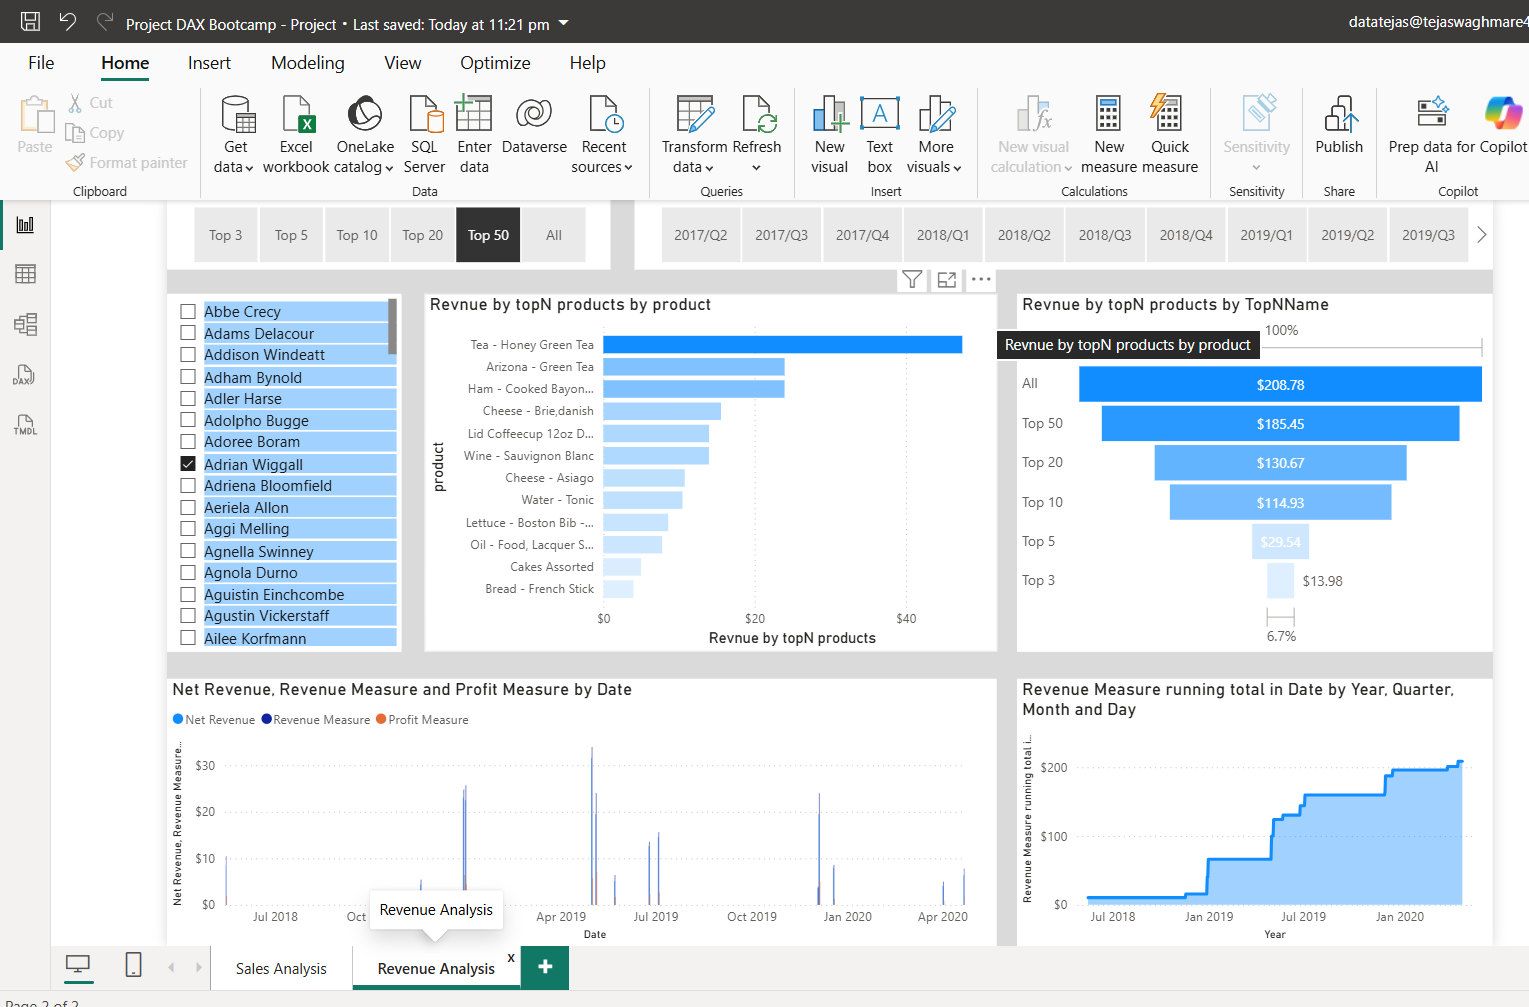

This screenshot's page, from the dashboard's own definition file:
{"tool":"powerbi","page":{"name":"Revenue Analysis","canvas":[1280,720],"ordinal":1},"visuals":[{"type":"slicer","fields":{"Values":["TopNFilter.TopNName"]},"box":[0,0,428.1,67.3],"z":0},{"type":"barChart","fields":{"Category":["products.product"],"Y":["Key Measure Table Project.Revnue by topN products"]},"box":[248.3,90.5,552.8,345.4],"z":1000},{"type":"funnel","fields":{"Category":["TopNFilter.TopNName"],"Y":["Key Measure Table Project.Revnue by topN products"]},"box":[821,90.5,459,345.4],"z":2000},{"type":"slicer","fields":{"Values":["customer.name"]},"box":[0,90.5,226.2,345.4],"z":3000},{"type":"areaChart","fields":{"Category":["DateTable.Date.Variation.Date Hierarchy.Year","DateTable.Date.Variation.Date Hierarchy.Quarter","DateTable.Date.Variation.Date Hierarchy.Month","DateTable.Date.Variation.Date Hierarchy.Day"],"Y":["Key Measure Table Project.Revenue Measure running total in Date"]},"box":[821,462.3,459,258.2],"z":4000},{"type":"slicer","fields":{"Values":["DateTable.YearQuarter"]},"box":[451.3,0,828.7,67.3],"z":5000},{"type":"clusteredColumnChart","fields":{"Category":["DateTable.Date"],"Y":["Key Measure Table Project.Net Revenue","Key Measures Table.Revenue Measure","Key Measure Table Project.Profit Measure"]},"box":[0,462.3,801.1,258.2],"z":6000}]}

Visuals, with their boxes on the page's 1280x720 design canvas (x1, y1, x2, y2). These are canvas units, not pixel positions in the 1529x1007 screenshot, which may show the page scaled, cropped or inside an application window:
slicer - TopNFilter.TopNName: locate(0, 0, 428, 67)
barChart - products.product x Key Measure Table Project.Revnue by topN products: locate(248, 90, 801, 436)
funnel - TopNFilter.TopNName x Key Measure Table Project.Revnue by topN products: locate(821, 90, 1280, 436)
slicer - customer.name: locate(0, 90, 226, 436)
areaChart - DateTable.Date.Variation.Date Hierarchy.Year x DateTable.Date.Variation.Date Hierarchy.Quarter: locate(821, 462, 1280, 720)
slicer - DateTable.YearQuarter: locate(451, 0, 1280, 67)
clusteredColumnChart - DateTable.Date x Key Measure Table Project.Net Revenue: locate(0, 462, 801, 720)
